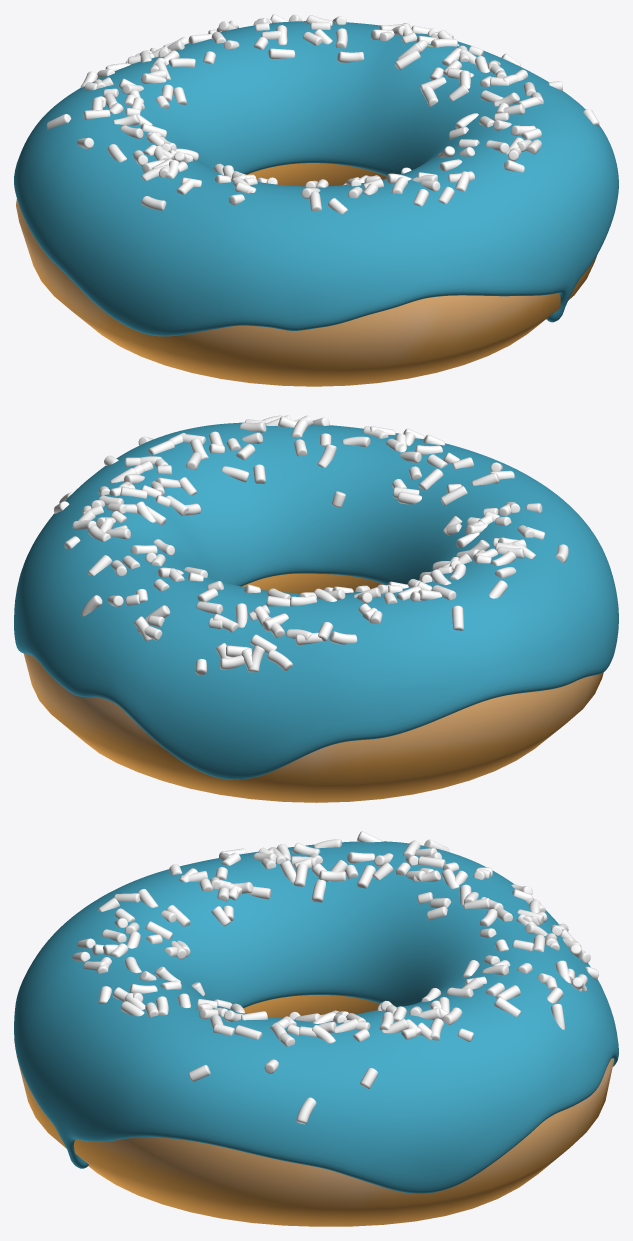
File: blue.gltf
3 views of the same model, one above another, from view 1: azimuth 30°, elevation 25°; view 2: azimuth 150°, elevation 25°; view 3: azimuth 270°, elevation 25° (orthographic). The views are drawn at different scales.
Parts seen in each view (by area): view 1: icing.001, Donut.001; view 2: icing.001, Donut.001; view 3: icing.001, Donut.001.
Part boxes in pixels (<box>): icing.001: <box>14,14,618,336</box>; Donut.001: <box>16,44,596,386</box>; icing.001: <box>14,415,618,779</box>; Donut.001: <box>23,573,603,802</box>; icing.001: <box>14,831,618,1193</box>; Donut.001: <box>14,995,613,1226</box>.
Bounding box in the file's own units: 0.1457 × 0.0543 × 0.1435.
3 materials, 1 textured.
